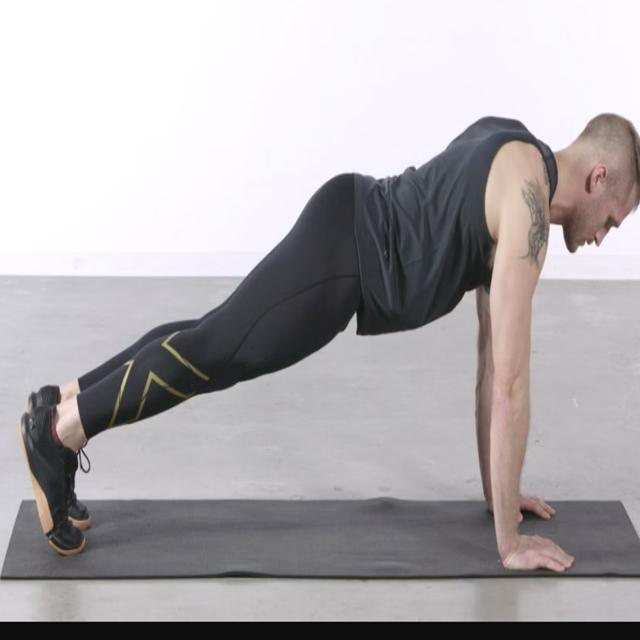Plank_Pose: (12, 113, 640, 581)
